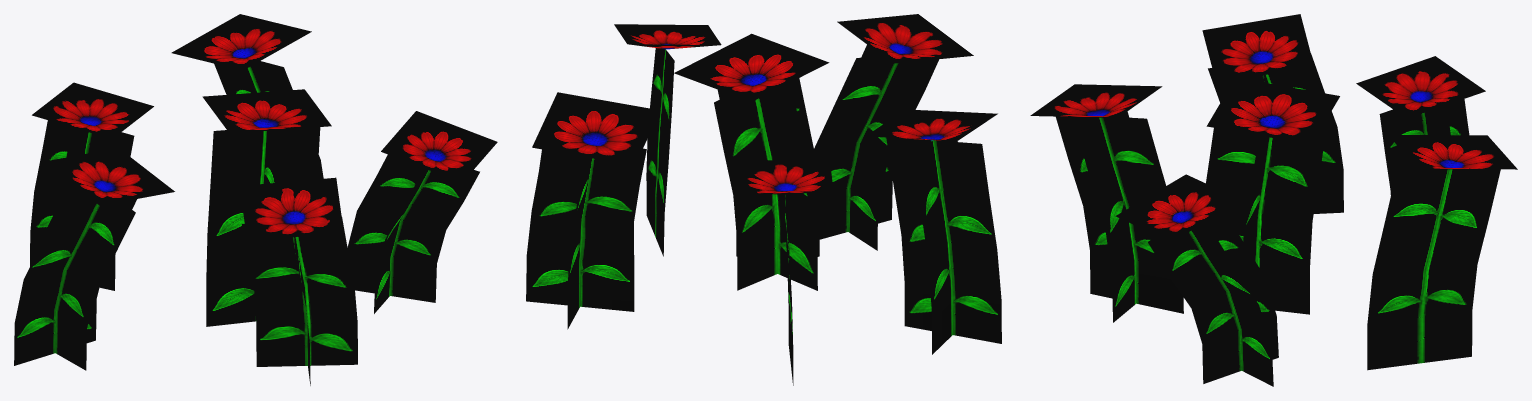
Rendered from Flowers02.fbx.
3 renders of one model, left to right at view 1: azimuth 30°, elevation 25°; view 2: azimuth 150°, elevation 25°; view 3: azimuth 270°, elevation 25°, orthographic. The views are drawn at different scales.
Visible parts, largest first — view 1: Flowers02_LOD0; view 2: Flowers02_LOD0; view 3: Flowers02_LOD0.
Part boxes in pixels (box(x1,y1,x2,y2)): Flowers02_LOD0: box(14, 14, 497, 385); Flowers02_LOD0: box(526, 14, 1001, 385); Flowers02_LOD0: box(1030, 14, 1517, 386).
Size of what is drawn, in the model's own units: 0.7349 by 0.3359 by 0.705.
